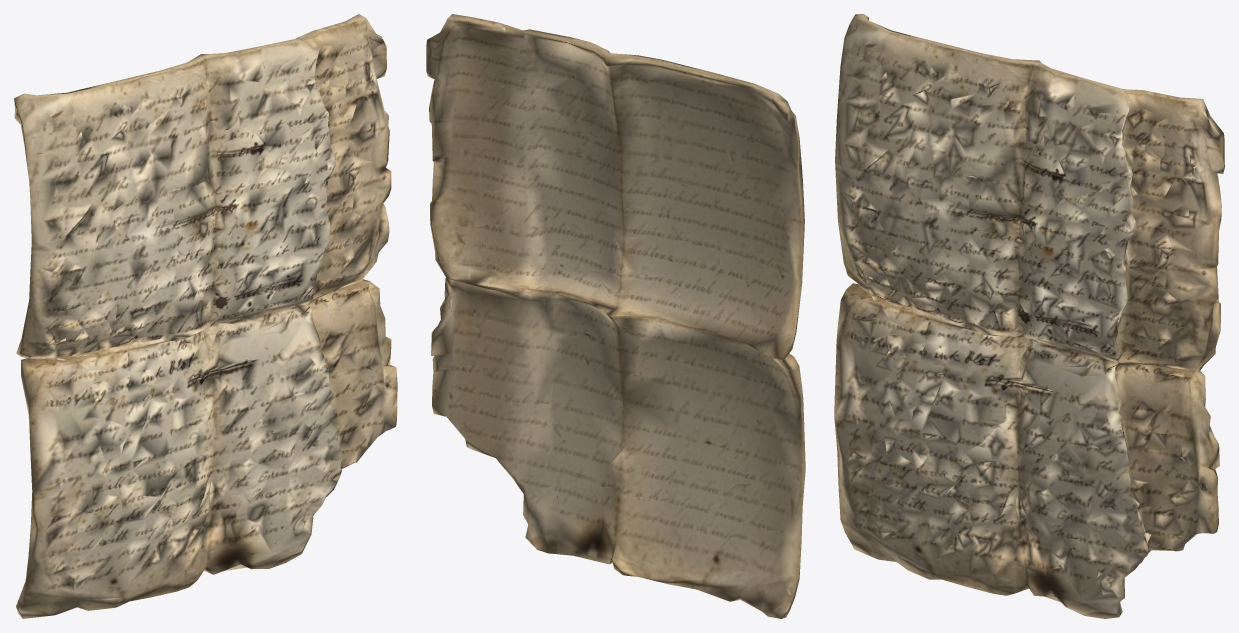
File: note.glb
3 views of the same model, side by side, from view 1: azimuth 30°, elevation 25°; view 2: azimuth 150°, elevation 25°; view 3: azimuth 330°, elevation 25° (orthographic). The views are drawn at different scales.
Bounding box in the file's own units: 1.4 × 1.9 × 0.1767.
Materials: 1 (1 with a texture image).
